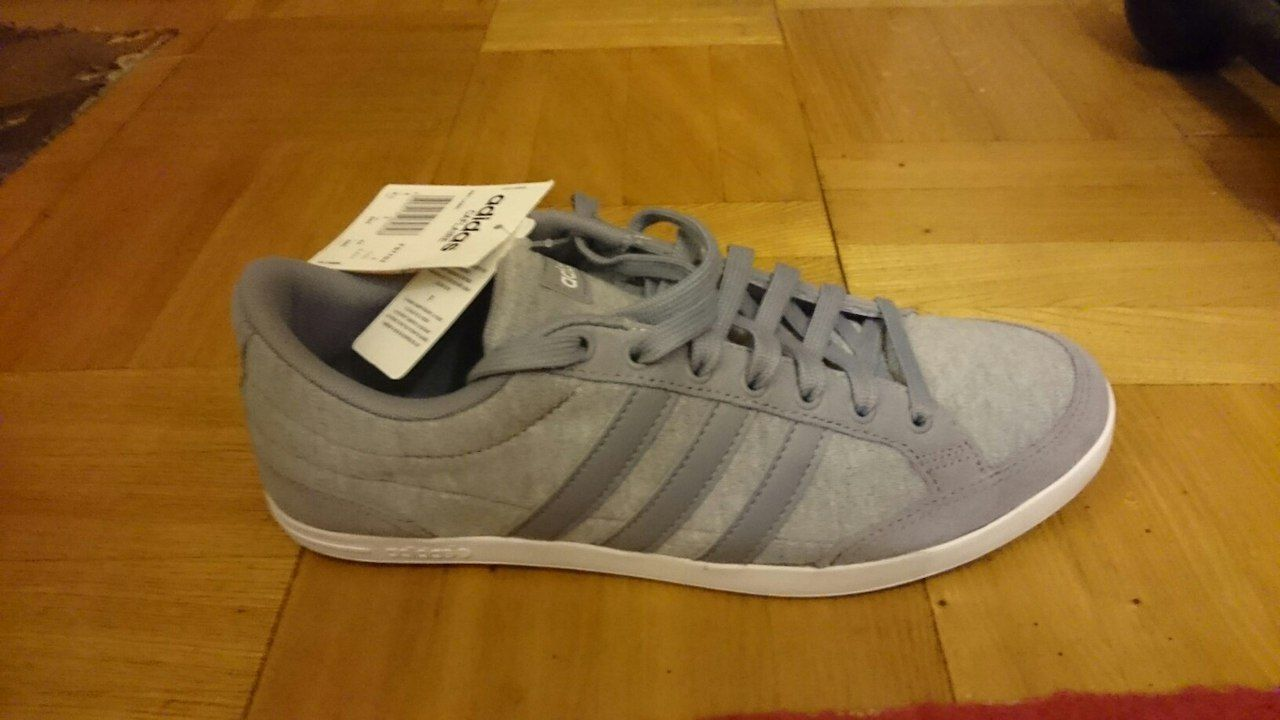clothes: (215, 194, 1114, 610)
